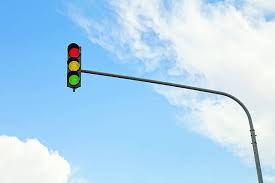traffic light: (53, 33, 93, 99)
